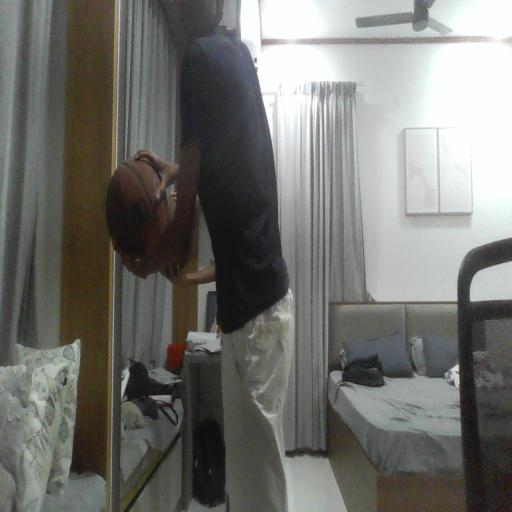basketball: (106, 158, 167, 255)
